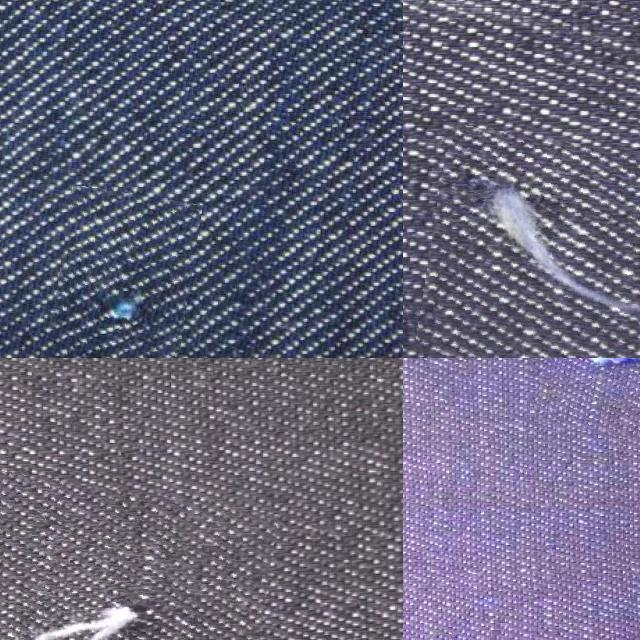Thread_other: (422, 131, 640, 358), (0, 480, 271, 640), (48, 188, 194, 358)
